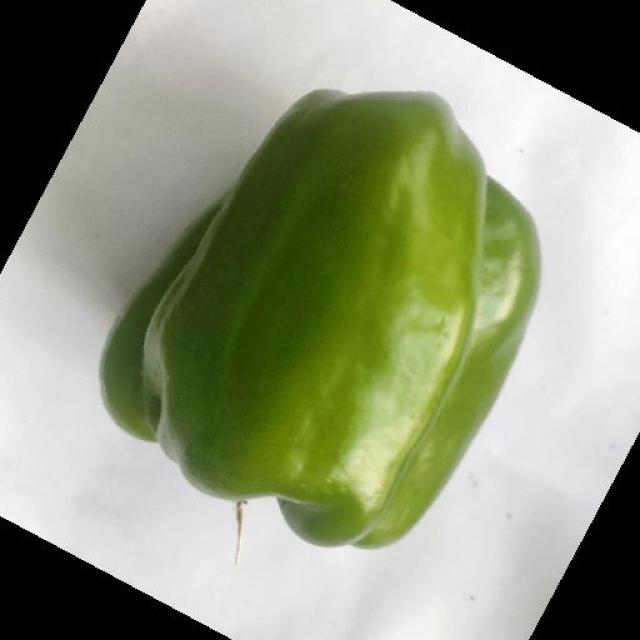Fresh_Capsicum: (105, 95, 564, 555)
